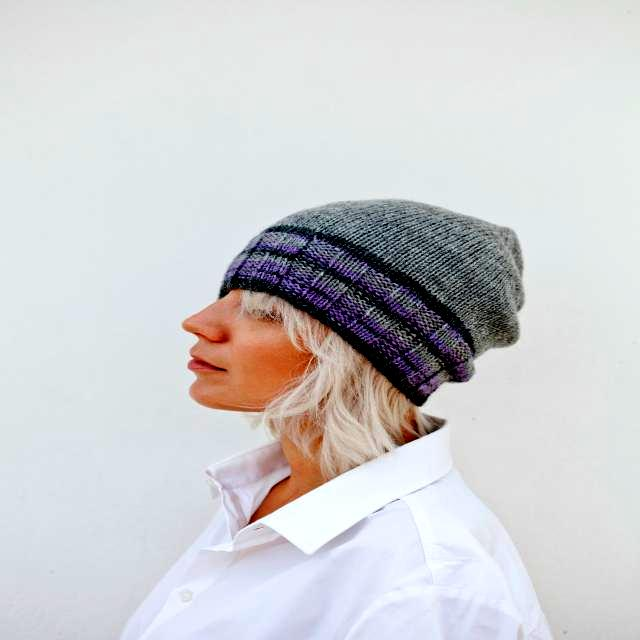no_hard_hat: (221, 200, 524, 405)
person: (96, 201, 547, 640)
